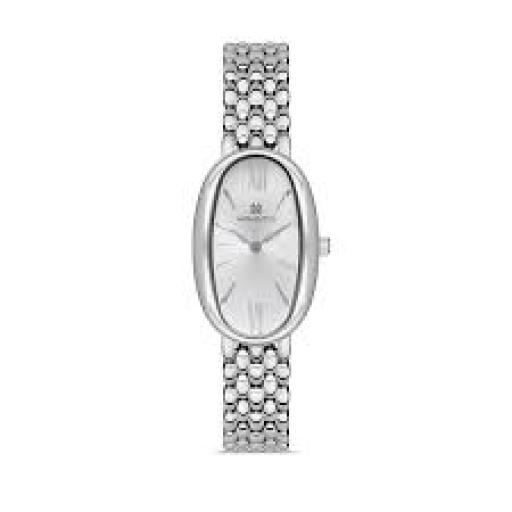KolSaati: (177, 30, 335, 483)
